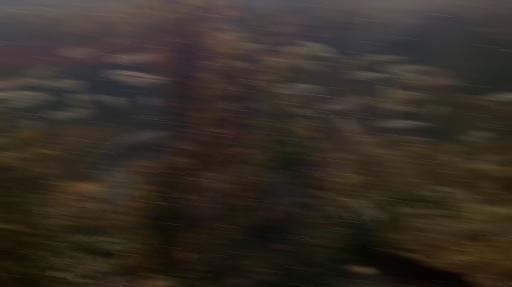Fish: (84, 130, 173, 174), (95, 170, 138, 212), (338, 118, 371, 151), (432, 186, 477, 202), (106, 70, 165, 82), (348, 199, 379, 221), (301, 41, 336, 60), (323, 95, 365, 109), (7, 95, 56, 107), (110, 53, 157, 64), (270, 83, 317, 94), (472, 163, 507, 177), (374, 119, 433, 127), (390, 90, 435, 100), (0, 77, 36, 89), (384, 85, 395, 121), (0, 90, 44, 99), (387, 71, 426, 81), (380, 64, 433, 71), (287, 46, 310, 62), (49, 79, 84, 89), (365, 54, 414, 61), (60, 48, 97, 57), (463, 130, 490, 142), (471, 154, 505, 163), (29, 66, 56, 77), (298, 60, 323, 71), (211, 33, 248, 40), (104, 95, 123, 108), (126, 79, 161, 86), (356, 72, 391, 79), (393, 105, 423, 113), (29, 78, 52, 88), (67, 108, 90, 118), (71, 94, 88, 107), (46, 110, 69, 119), (486, 93, 511, 101), (79, 93, 102, 100), (24, 127, 39, 137), (428, 105, 443, 115), (291, 108, 310, 115), (23, 120, 38, 128), (221, 102, 236, 109), (200, 61, 213, 68), (143, 98, 156, 105), (239, 62, 254, 68), (304, 61, 326, 65), (198, 73, 211, 79)
